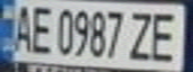0: (51, 3, 75, 56)
7: (106, 7, 130, 60)
8: (87, 7, 109, 58)
9: (69, 6, 90, 56)
A: (6, 1, 36, 53)
E: (145, 7, 187, 63), (27, 2, 54, 55)
Z: (127, 7, 157, 61)
